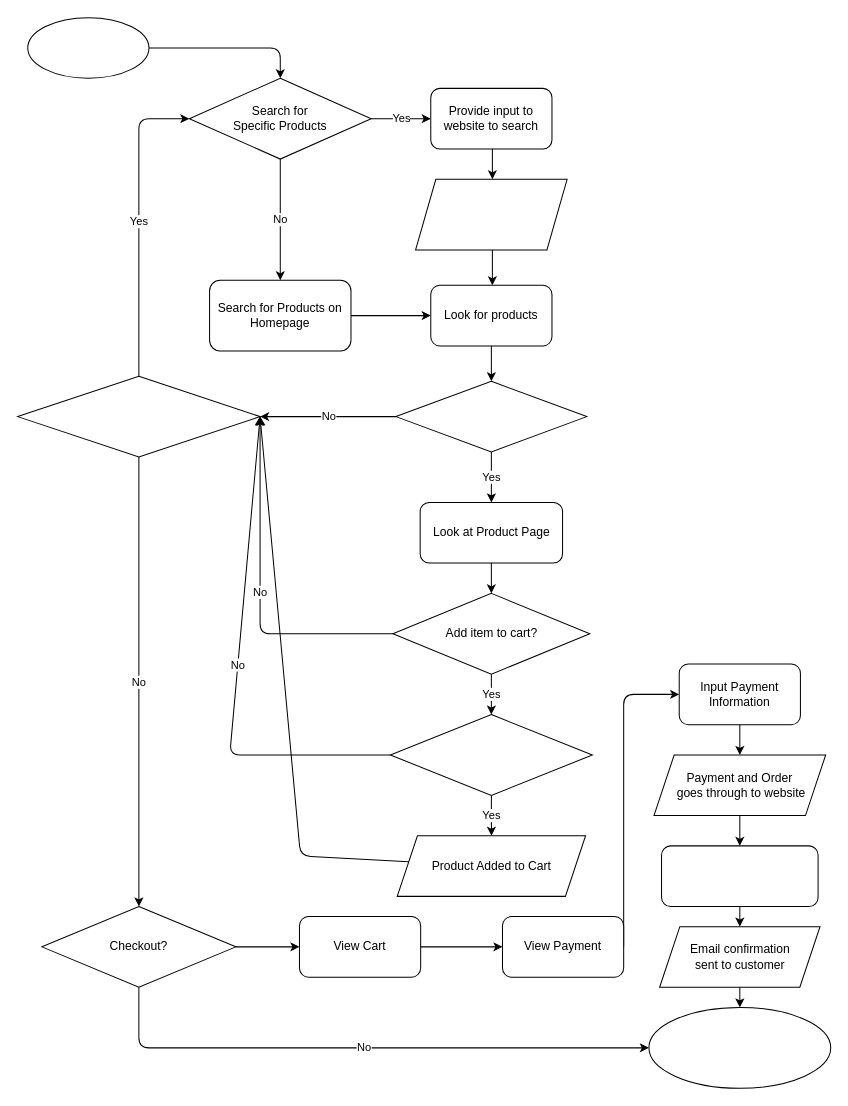
Image size: 848x1106. Some labels were removed from this diagram. The shapes that lost their labels are listed below. From the top down, each one's centre as x and y in pixels, then its label:
point (88, 47): Start/Enter
point (491, 214): Website searches given input
point (138, 416): Keep Shopping?
point (491, 416): Look at Specific Product?
point (490, 754): Cart Confirmation?
point (739, 875): Order Confirmed Screen!
point (739, 1047): End/Leave Website
